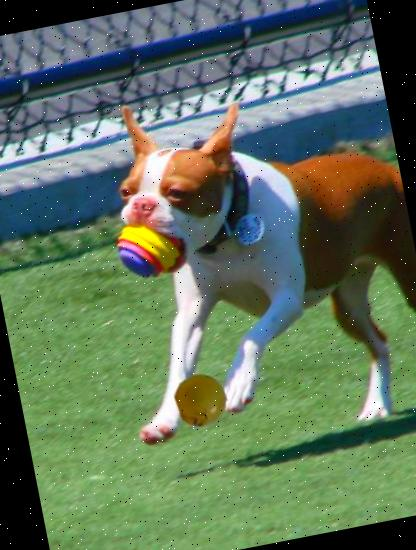Grape: (170, 369, 232, 431)
